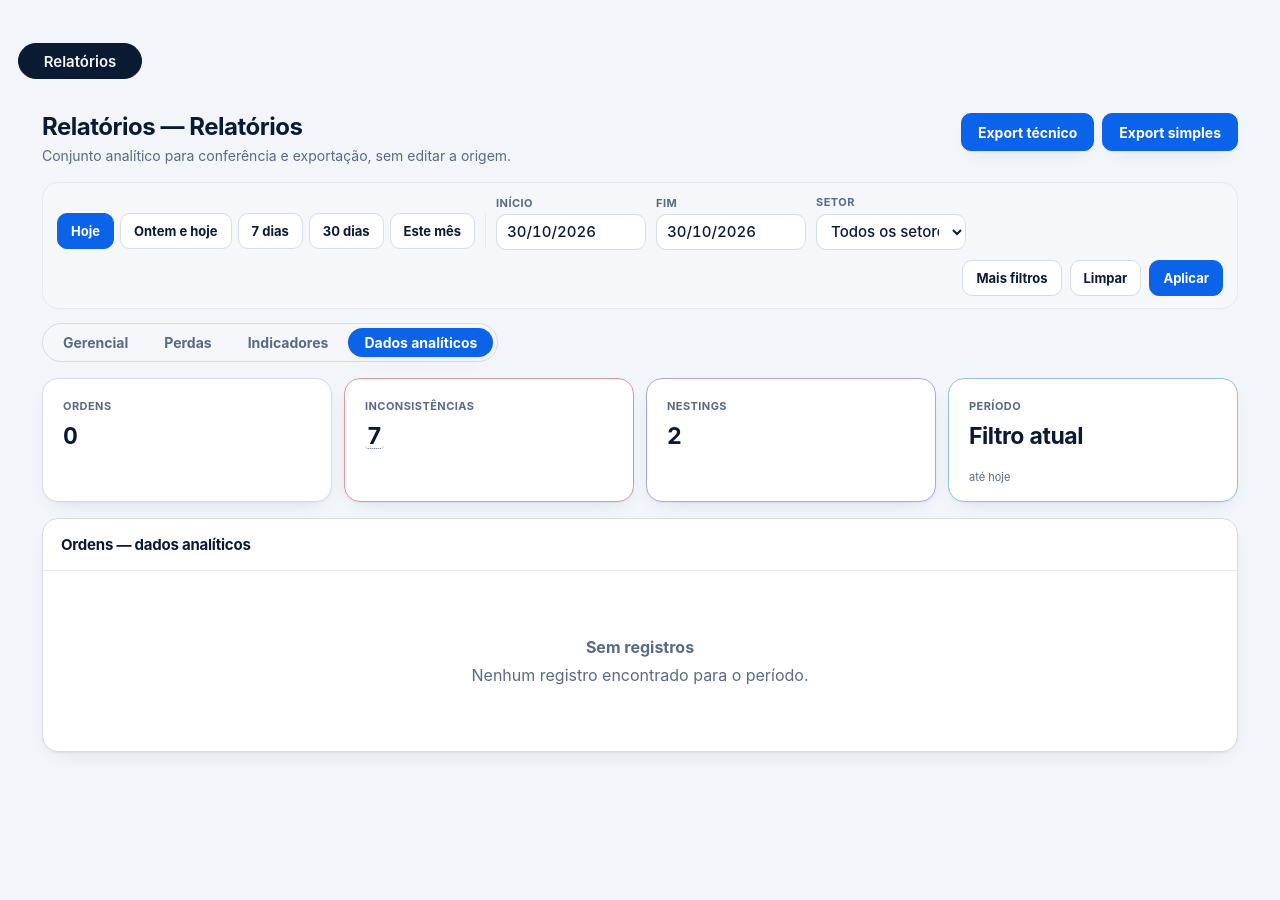
Relatórios: números clicáveis com a conta aberta › Dados analíticos: só Inconsistências abre qld.auditoria.total
The image size is (1280, 900).
Click the button named "Ver de onde vem este número: Inconsistências 7" at (374, 437), box [365,425,384,449]
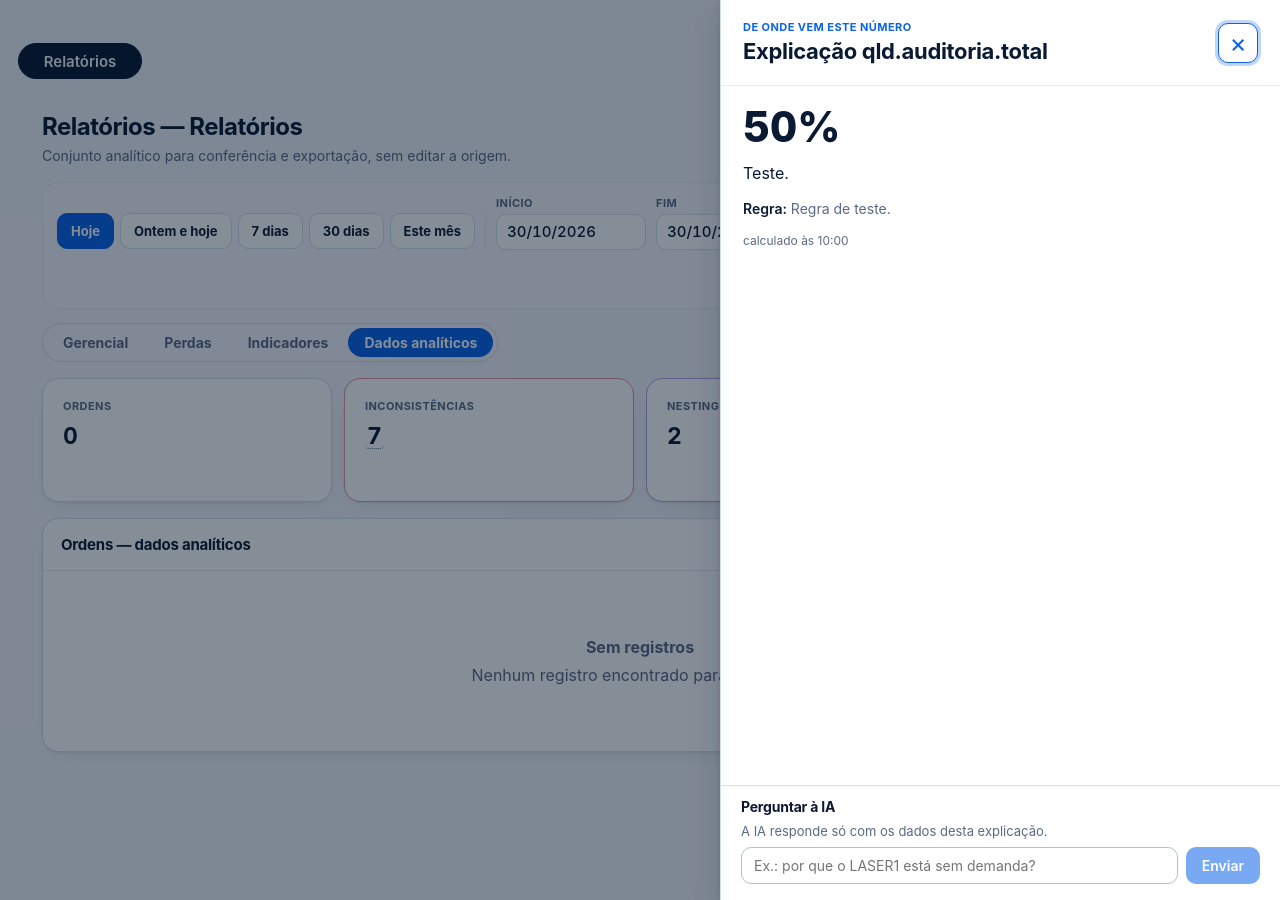
Expected: the dialog is shown, [720,0,1279,899]
Click the button named "Fechar explicação" at (1238, 42), box [1218,22,1258,62]
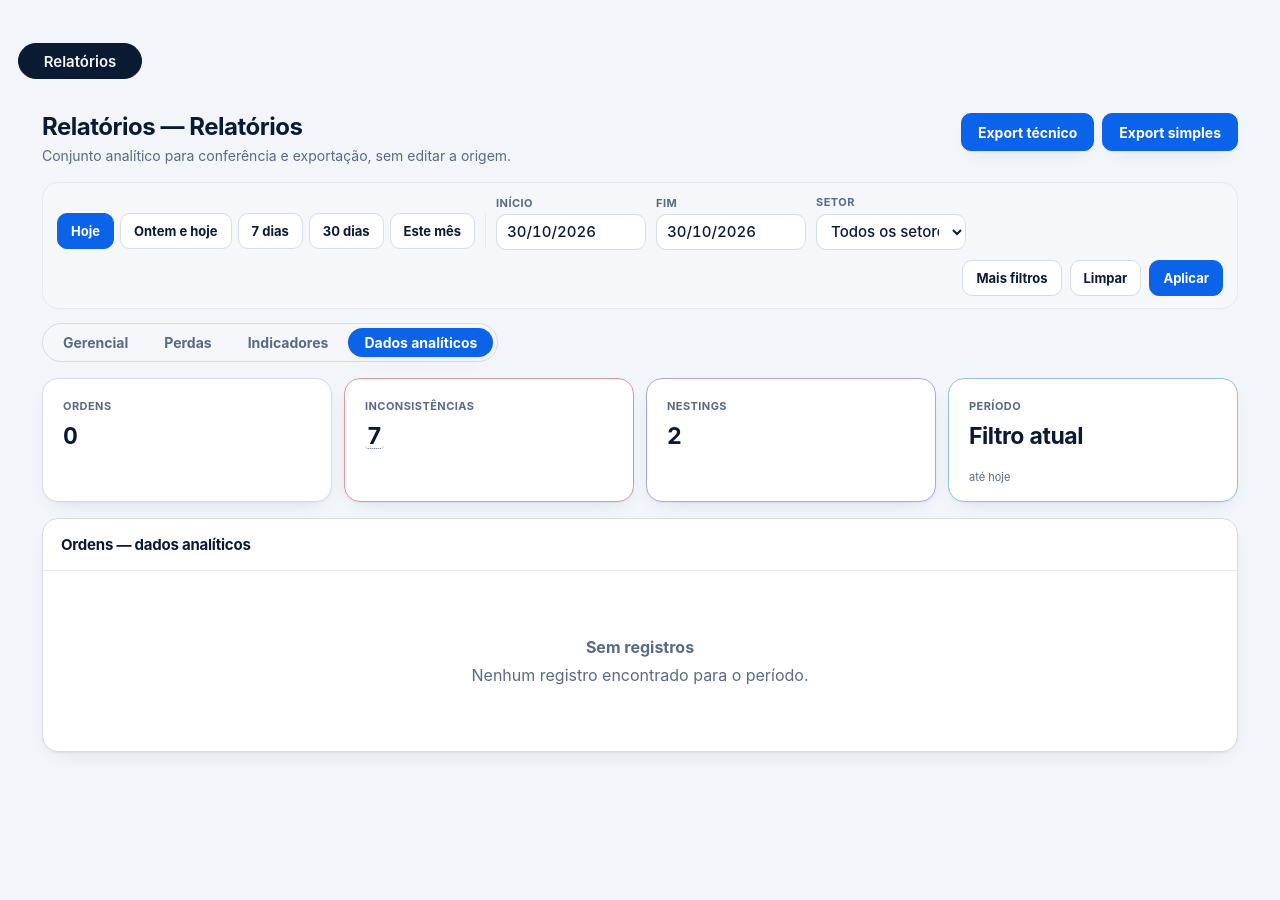
Expected: the dialog is gone
